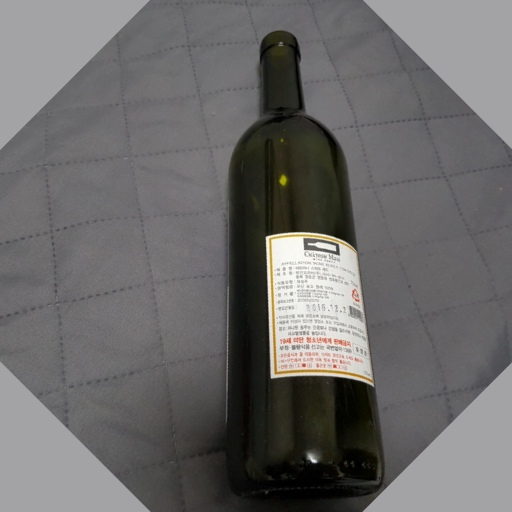Glass_2: (218, 29, 383, 503)
